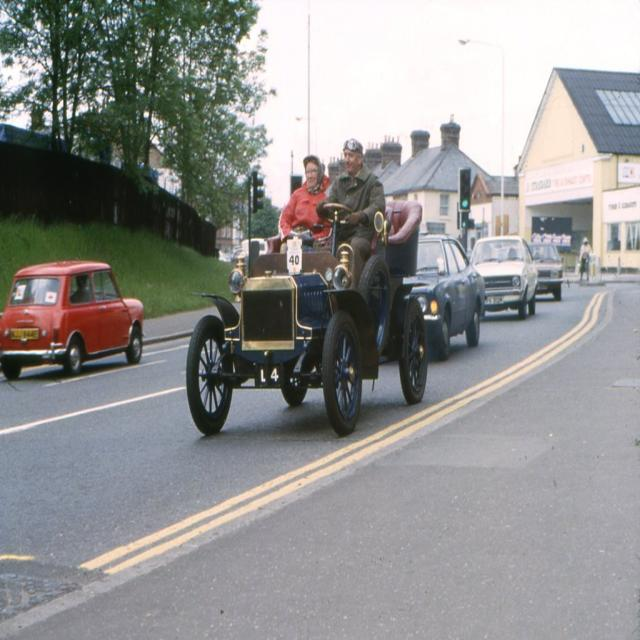car: (184, 194, 427, 428), (5, 261, 145, 381)
